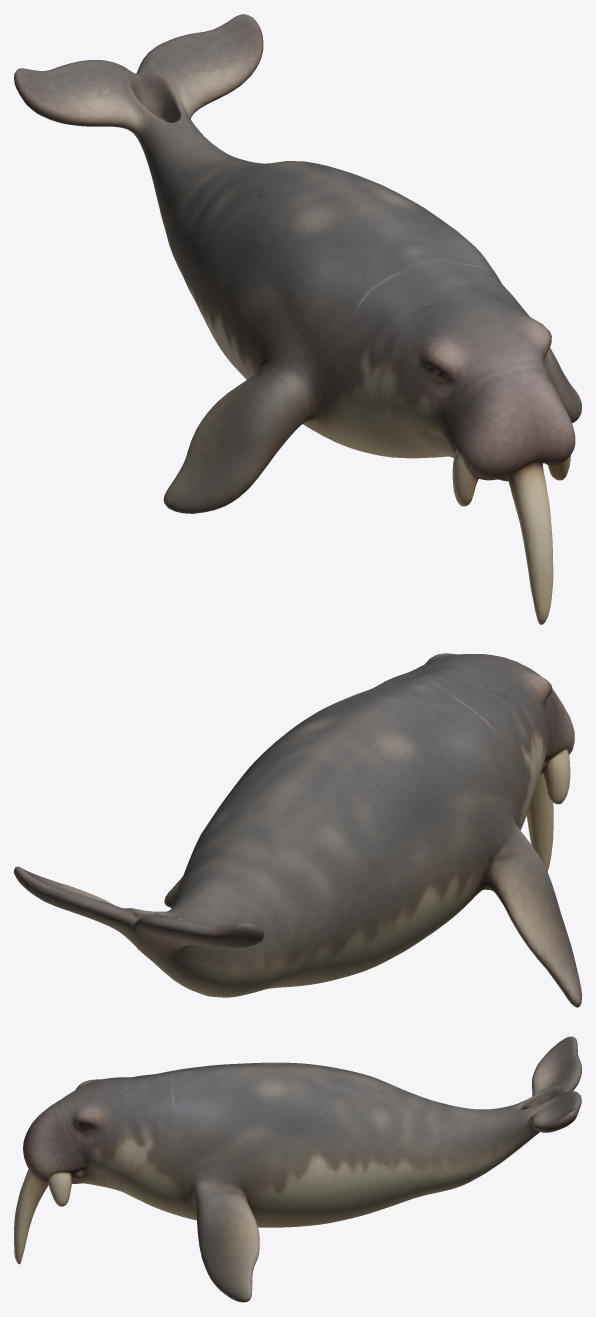
3 views of the same model, one above another, from view 1: azimuth 30°, elevation 25°; view 2: azimuth 150°, elevation 25°; view 3: azimuth 270°, elevation 25° (orthographic). The views are drawn at different scales.
Parts seen in each view (by area): view 1: world; view 2: world; view 3: world.
Boxes of the visible parts, x1,y1,x2,y2 form: world: (14,14,581,624); world: (14,653,581,1007); world: (14,1036,581,1302).
Bounding box in the file's own units: 1.48 × 0.9874 × 2.6.
1 material, 1 textured.
